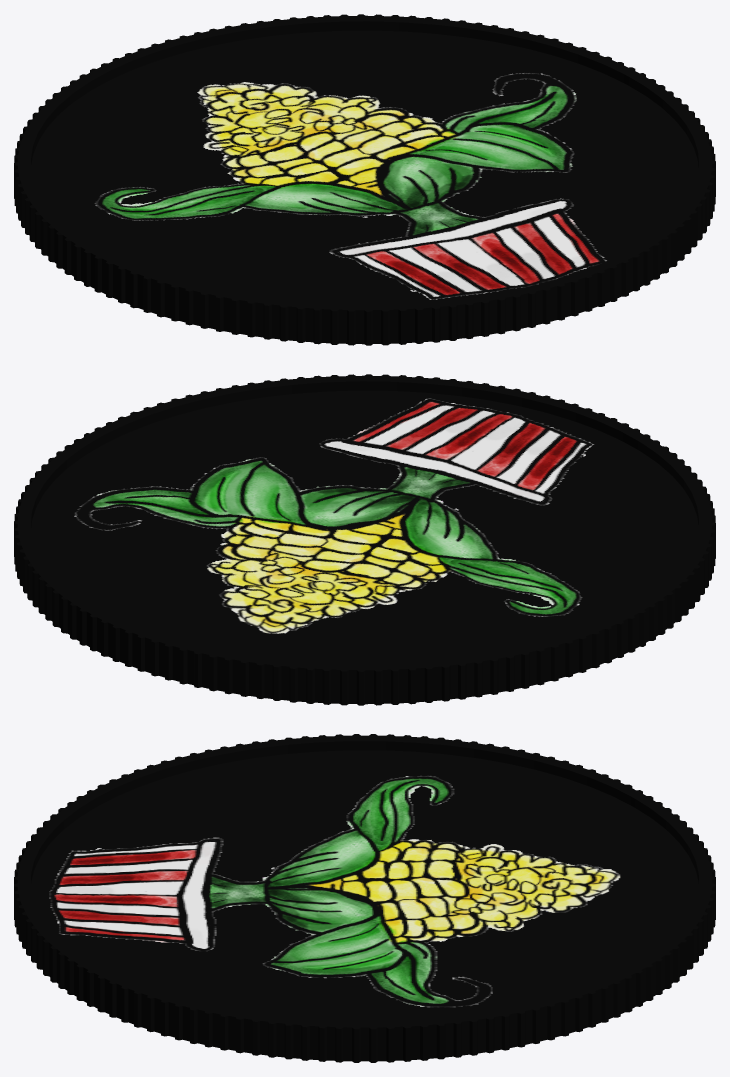
Rendered from popcornPlant.obj.
The picture shows the model from 3 angles, top to bottom: view 1: azimuth 30°, elevation 25°; view 2: azimuth 150°, elevation 25°; view 3: azimuth 270°, elevation 25°; orthographic projection.
Visible parts, largest first — view 1: Cylinder; view 2: Cylinder; view 3: Cylinder.
Boxes of the visible parts, x1,y1,x2,y2 form: Cylinder: (14, 14, 715, 345); Cylinder: (14, 374, 715, 705); Cylinder: (14, 734, 715, 1062).
Size of the model in its own units: 8.1 by 0.4326 by 8.15.
